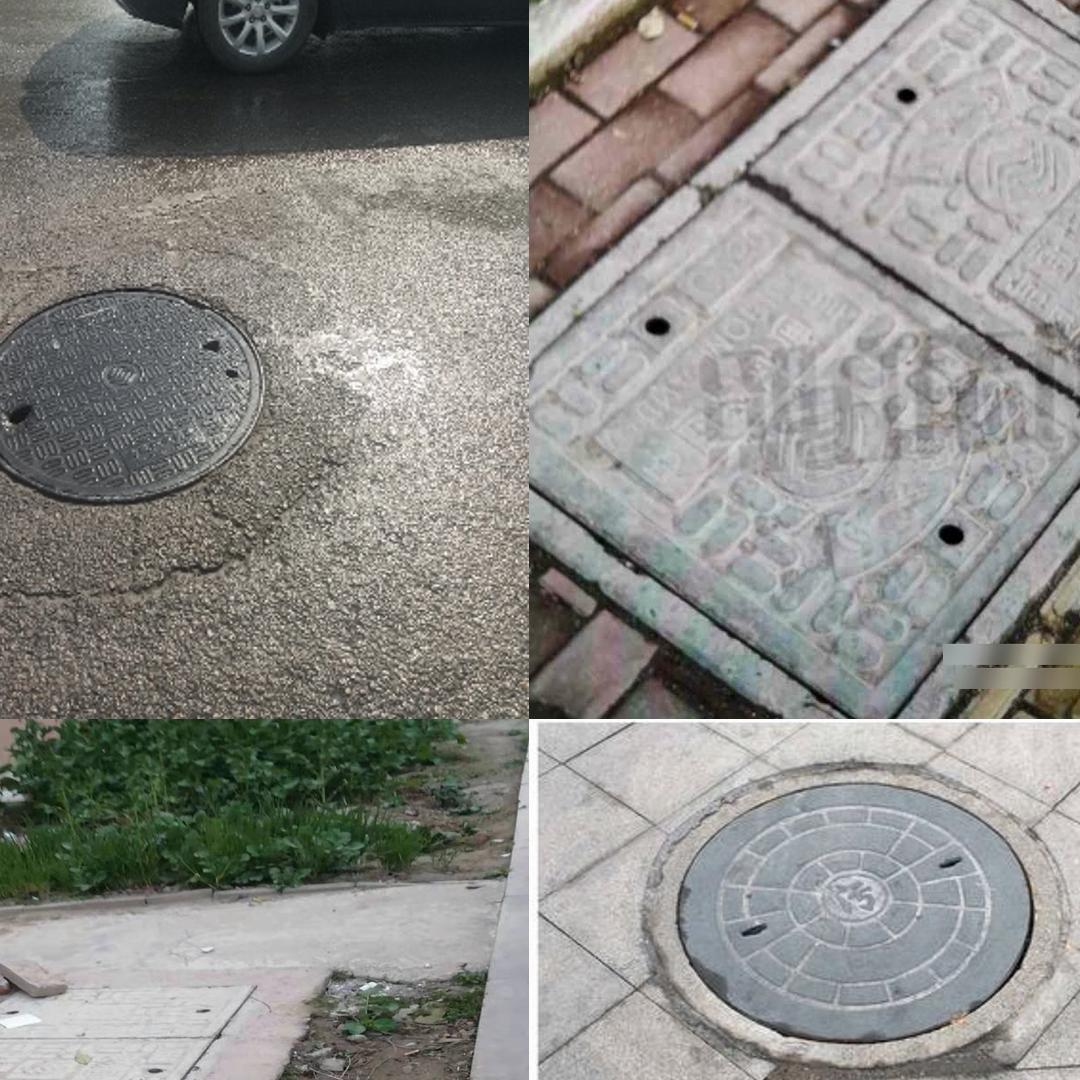good: (529, 0, 1080, 719), (633, 746, 1080, 1080), (0, 286, 264, 504), (0, 983, 255, 1080)
